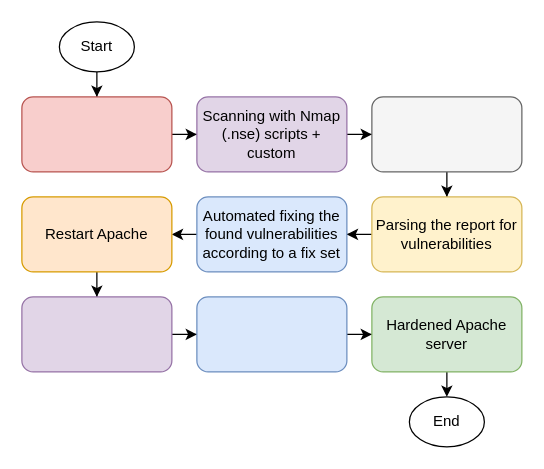
This 544x469 diagram has some shape labels left out. The centre of each missing label's shape, as x and y in pixels:
Manual fix of found vulnerabilities (if neccessary): the point at 271,334
Running vulnerable Apache server on localhost: the point at 96,134
Save the report: the point at 446,134
Scanning again with same scanning rules: the point at 96,334
